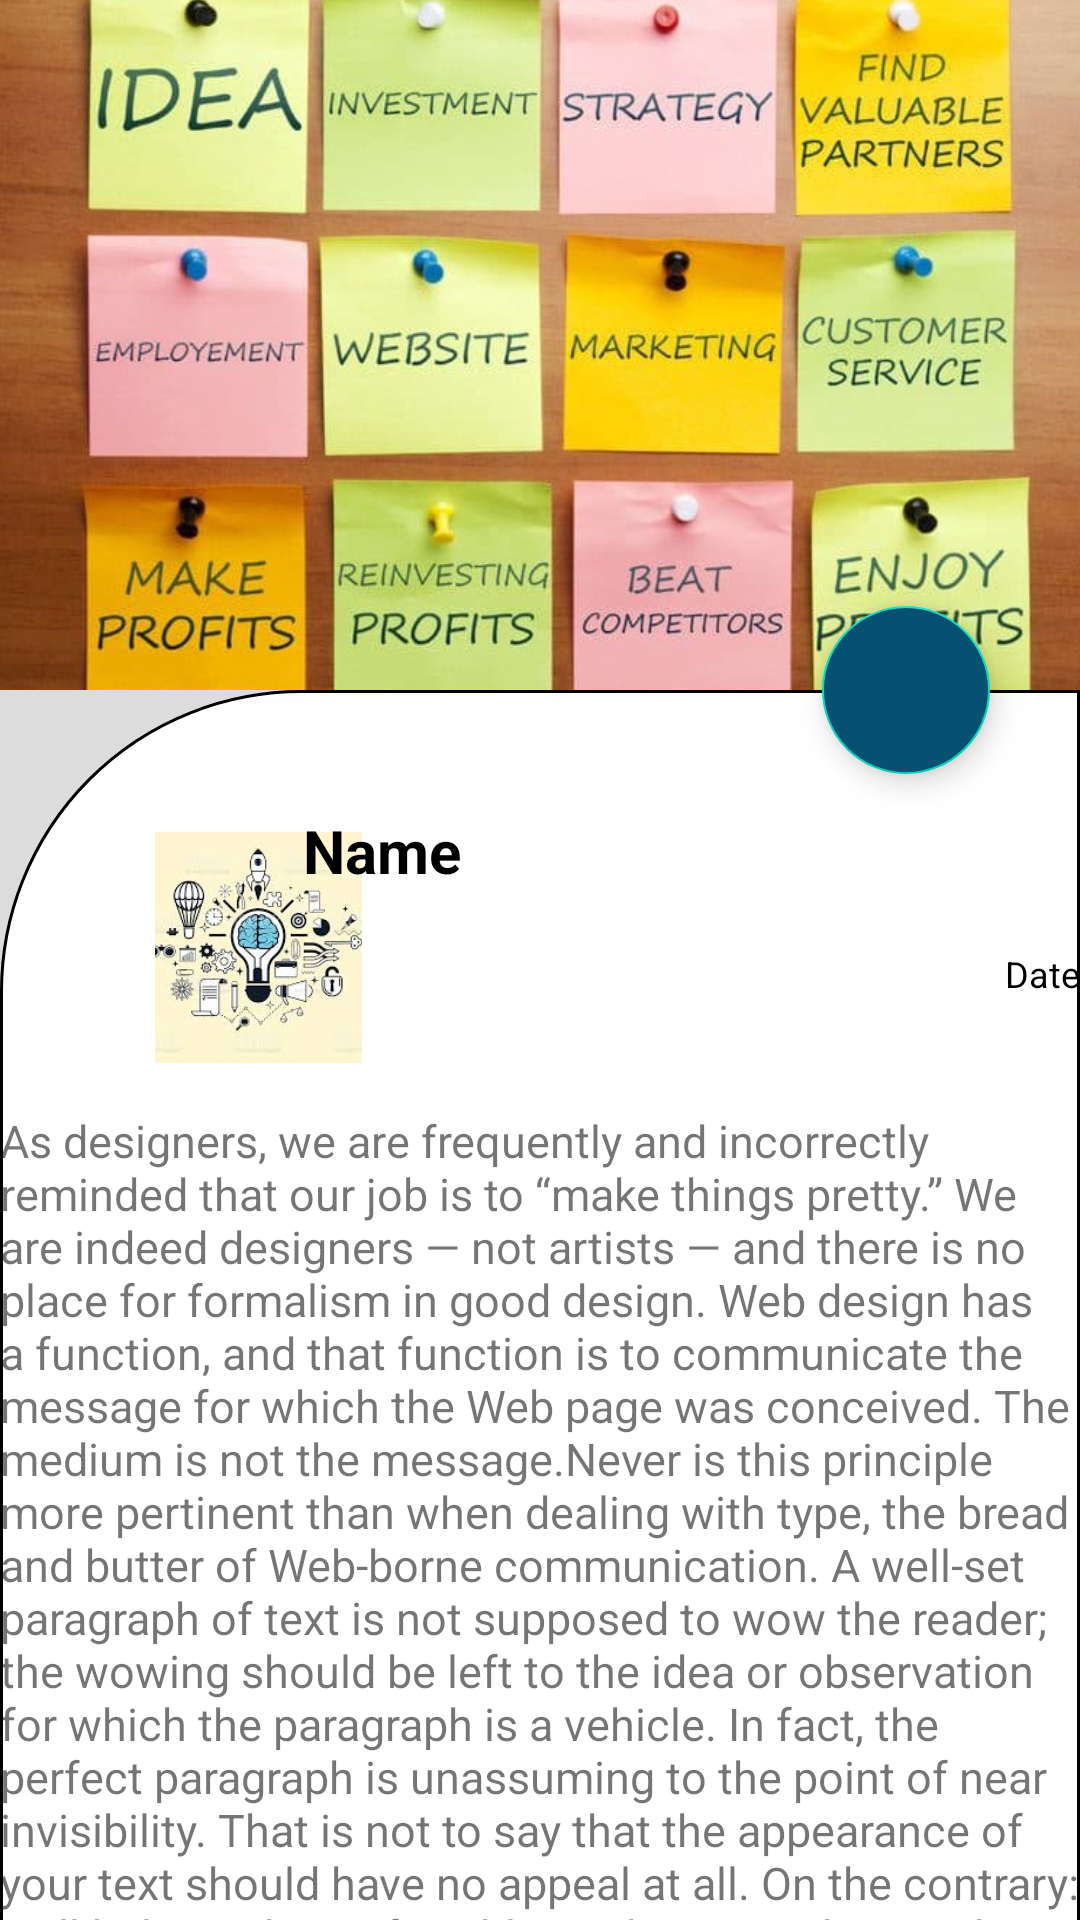

Where icons sit on this 1080px×1920px app screen, as (x1=x1, y1=y1, x2=x2, y2=y2):
idea: (x1=155, y1=832, x2=362, y2=1063)
